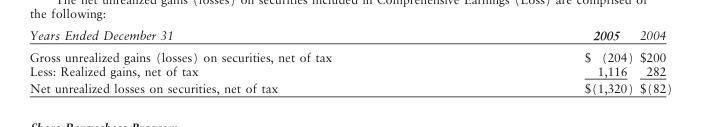table: (28, 29, 671, 95)
table column: (28, 29, 457, 95), (457, 29, 635, 95), (635, 29, 671, 95)
table column header: (28, 29, 671, 46)
table row: (28, 46, 671, 64), (28, 29, 671, 46), (28, 64, 671, 80), (28, 80, 671, 95)
